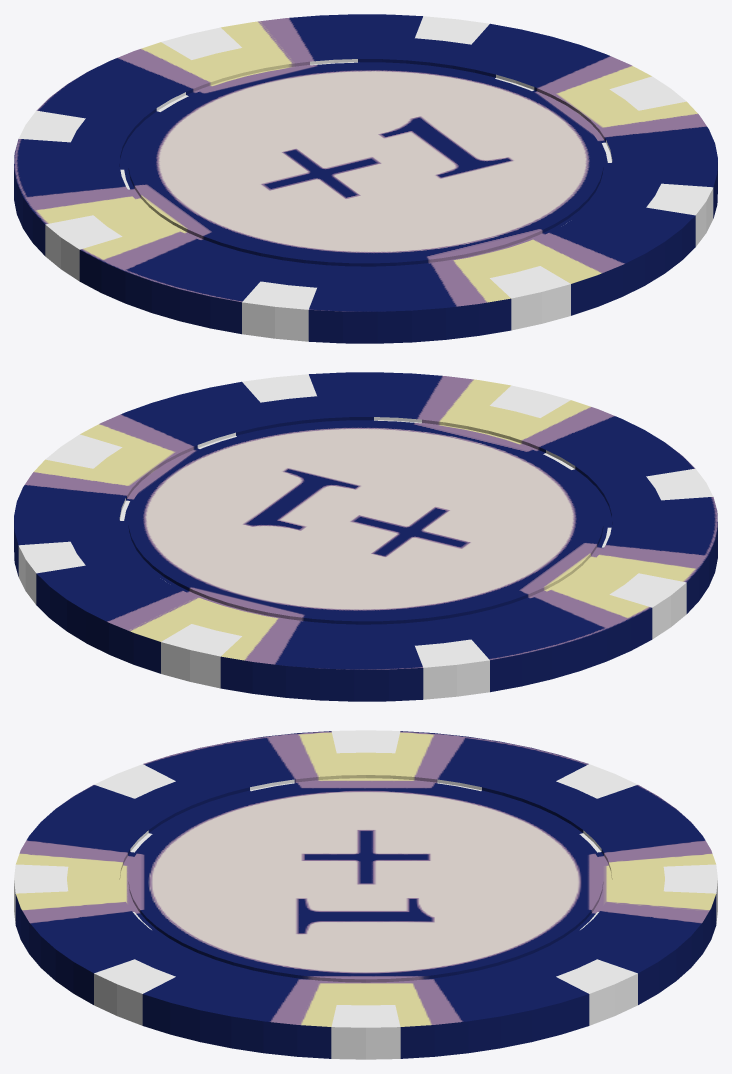
3 views of the same model, one above another, from view 1: azimuth 30°, elevation 25°; view 2: azimuth 150°, elevation 25°; view 3: azimuth 270°, elevation 25° (orthographic).
Parts seen in each view (by area): view 1: chip.002; view 2: chip.002; view 3: chip.002.
Part boxes in pixels (x1=…): chip.002: x1=14, y1=14, x2=717, y2=343; chip.002: x1=14, y1=372, x2=717, y2=701; chip.002: x1=14, y1=730, x2=717, y2=1059.
Size of the model in its own units: 200 by 10 by 200.
